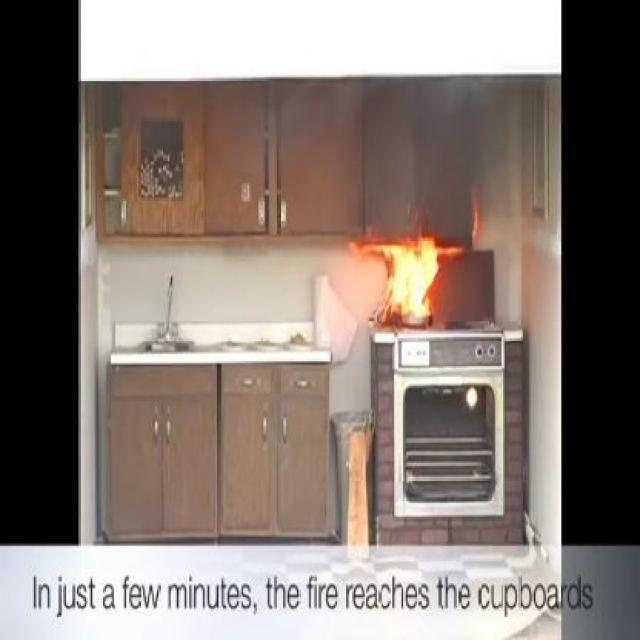fire: (357, 217, 490, 366)
